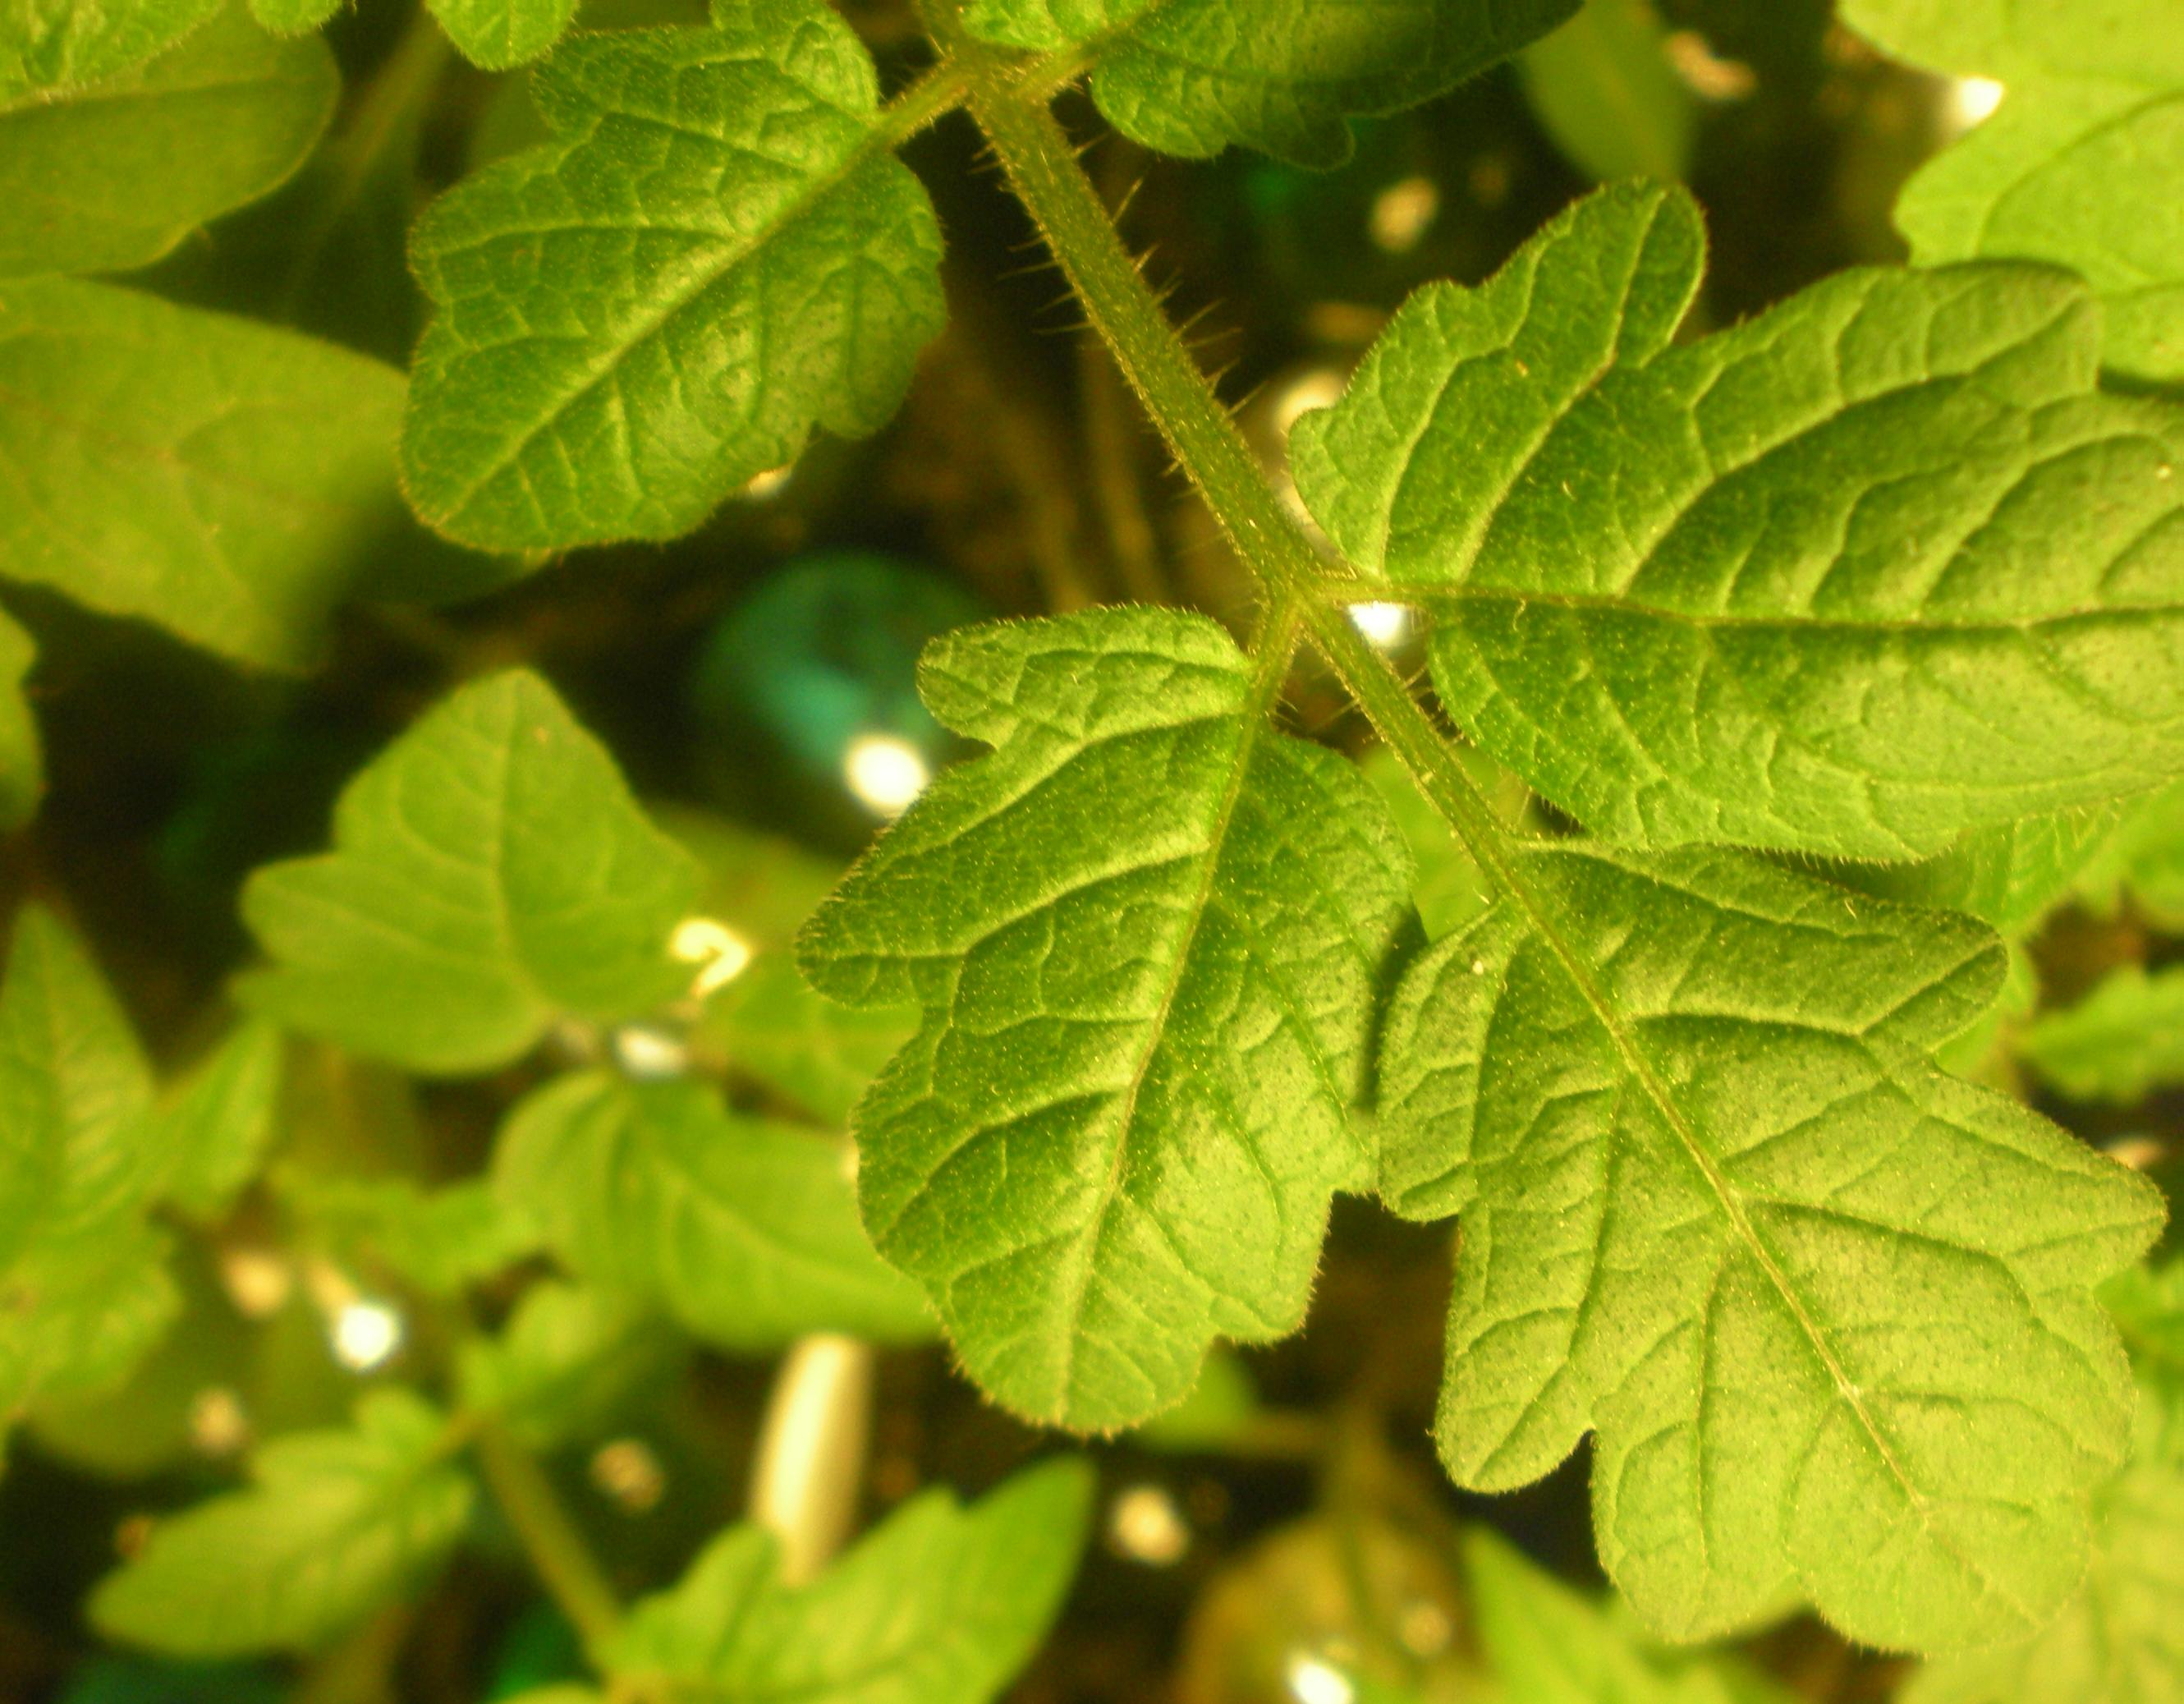Tomato leaf: (1395, 801, 2166, 1672), (799, 512, 1452, 1458), (1269, 192, 2184, 842), (344, 14, 1021, 605), (230, 653, 760, 1082), (489, 1057, 963, 1394), (950, 0, 1730, 195), (590, 1454, 1131, 1704)
